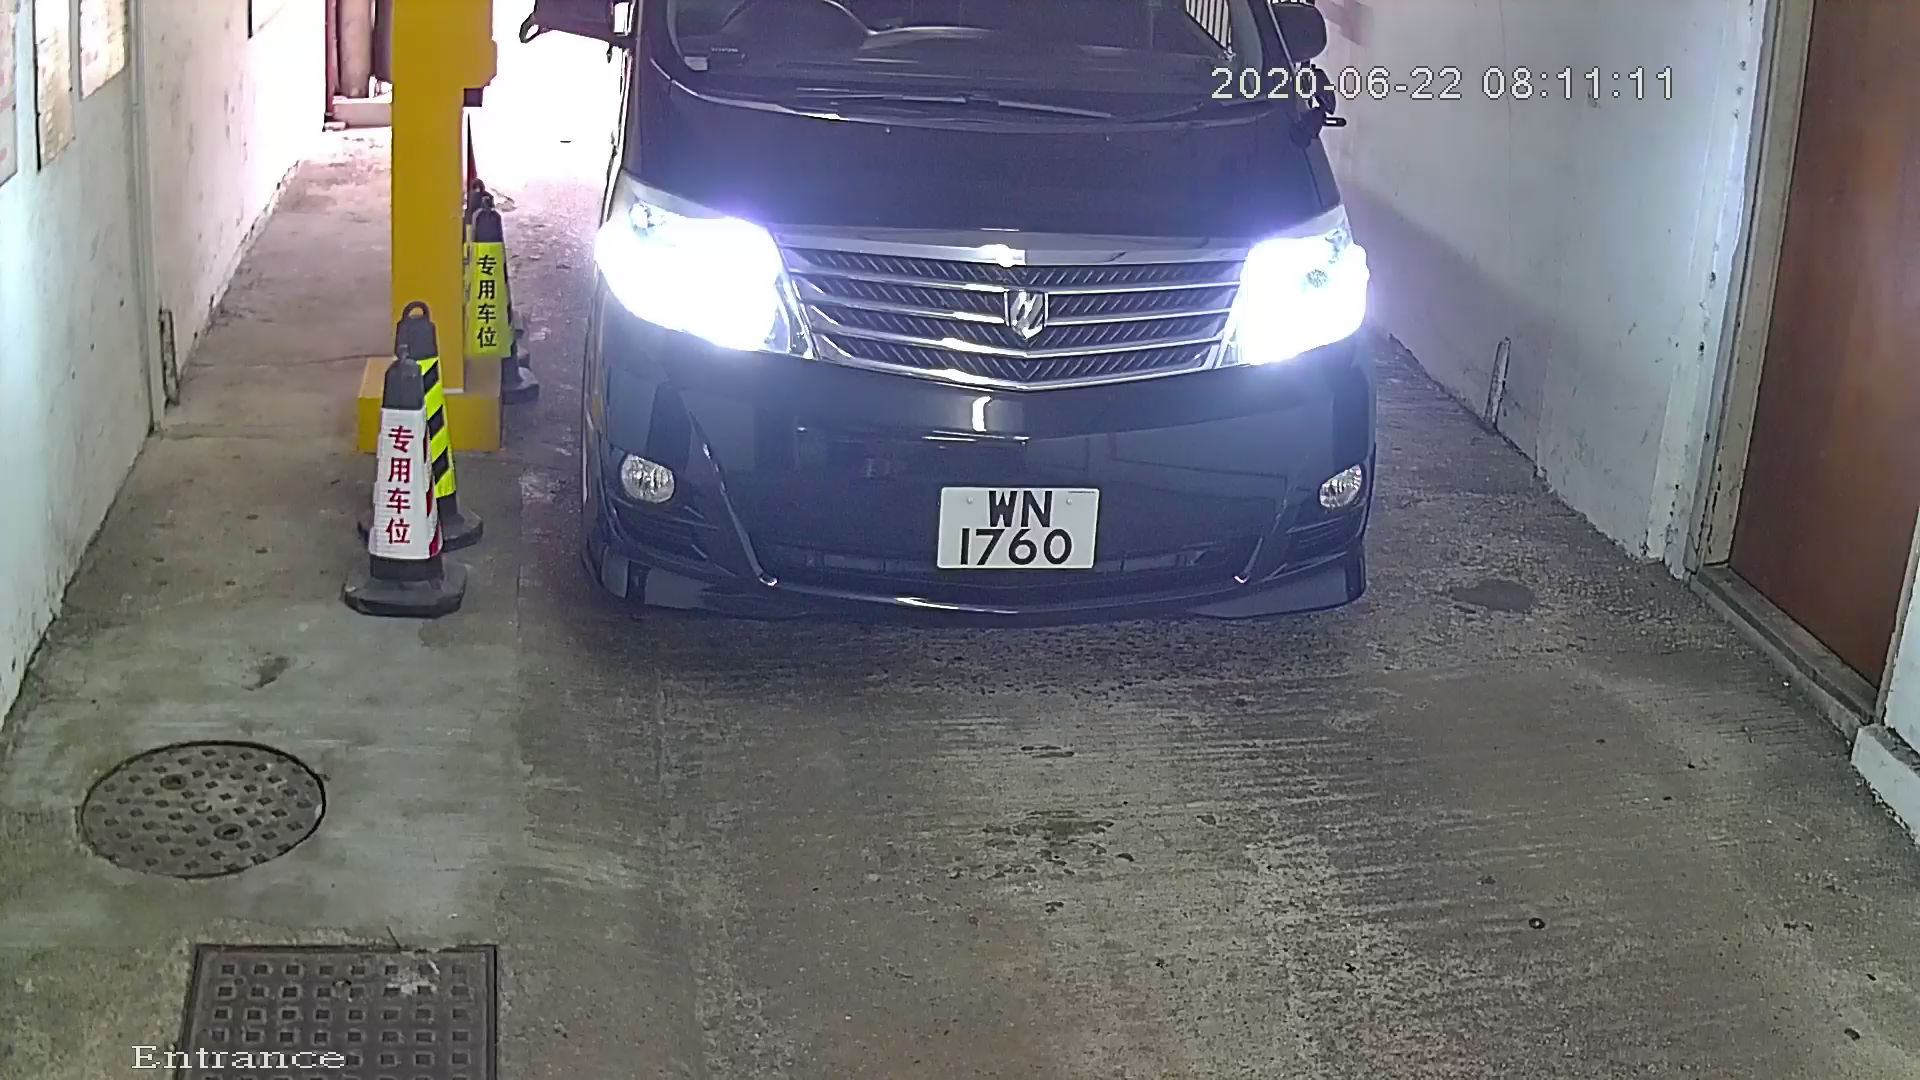privatecar: (502, 1, 1448, 744)
